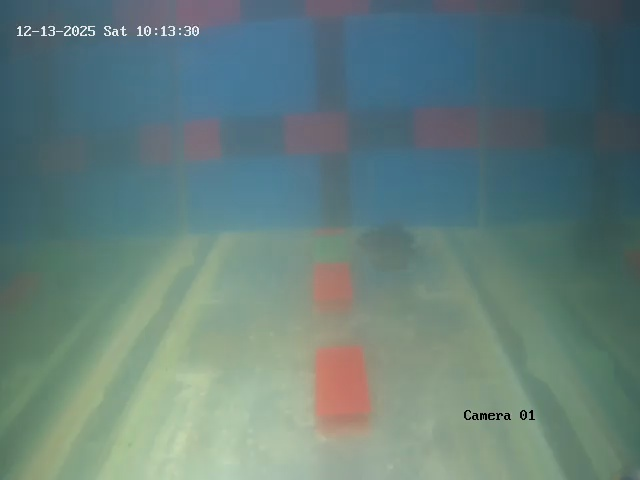fish: (351, 222, 433, 275)
